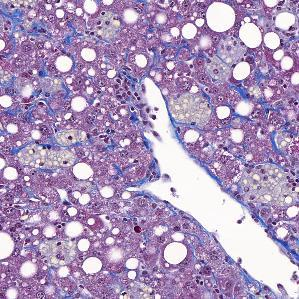fibrosis: (8, 13, 85, 50)
